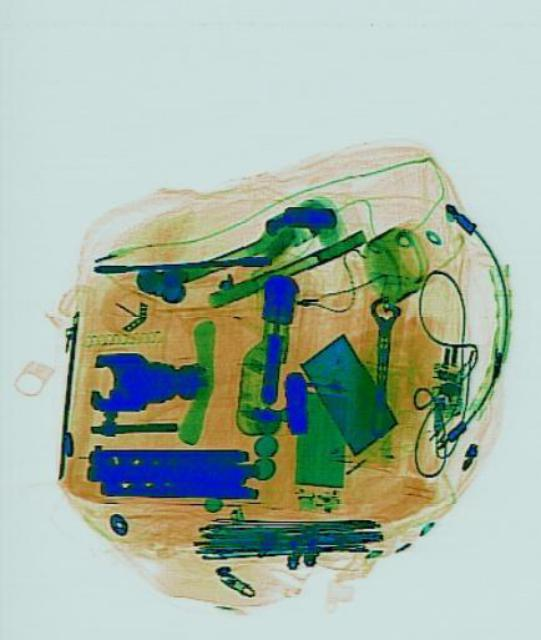Wrench: (359, 293, 399, 437)
